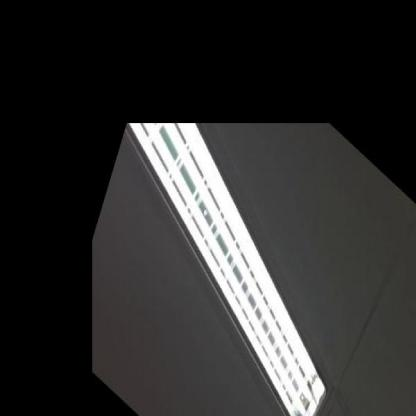light_on: (85, 26, 381, 415)
